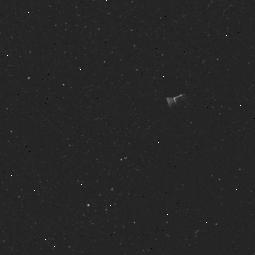debris: (156, 89, 192, 114)
